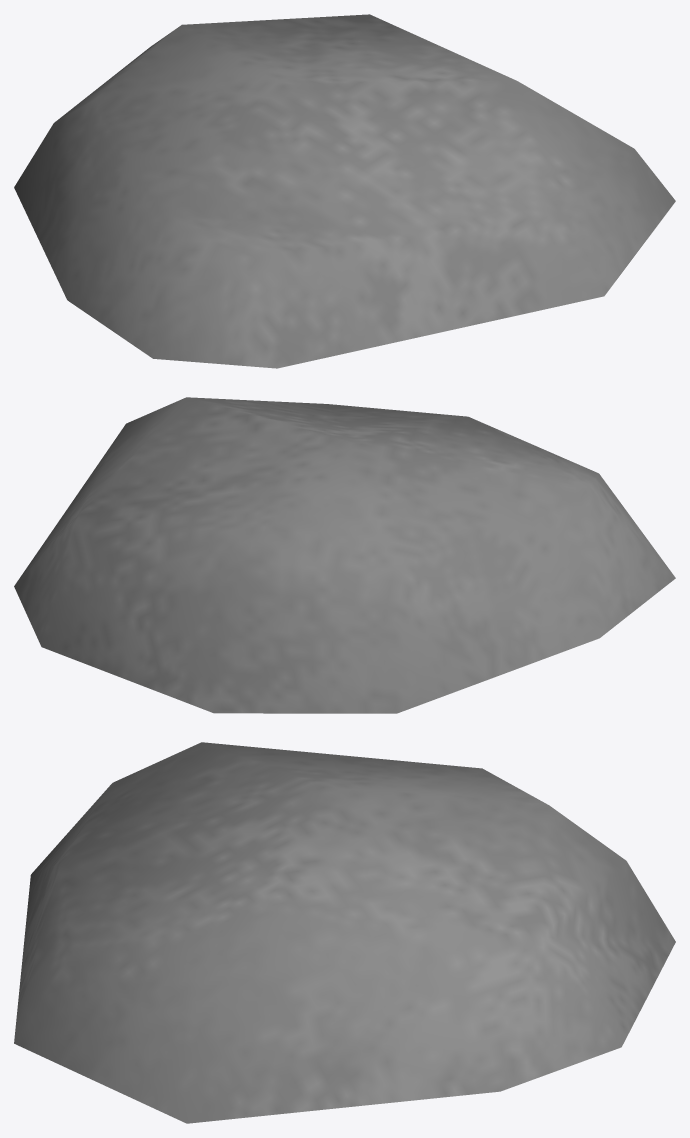
File: Stepping_Stone_4.fbx
3 renders of one model, top to bottom at view 1: azimuth 30°, elevation 25°; view 2: azimuth 150°, elevation 25°; view 3: azimuth 270°, elevation 25°, orthographic. The views are drawn at different scales.
Visible parts, largest first — view 1: Cube.079; view 2: Cube.079; view 3: Cube.079.
Part boxes in pixels (left/top/right/bottom): Cube.079: left=14, top=14, right=675, bottom=368; Cube.079: left=14, top=397, right=675, bottom=713; Cube.079: left=14, top=742, right=675, bottom=1123.
Size of the model in its own units: 69.13 by 17.72 by 65.46.
